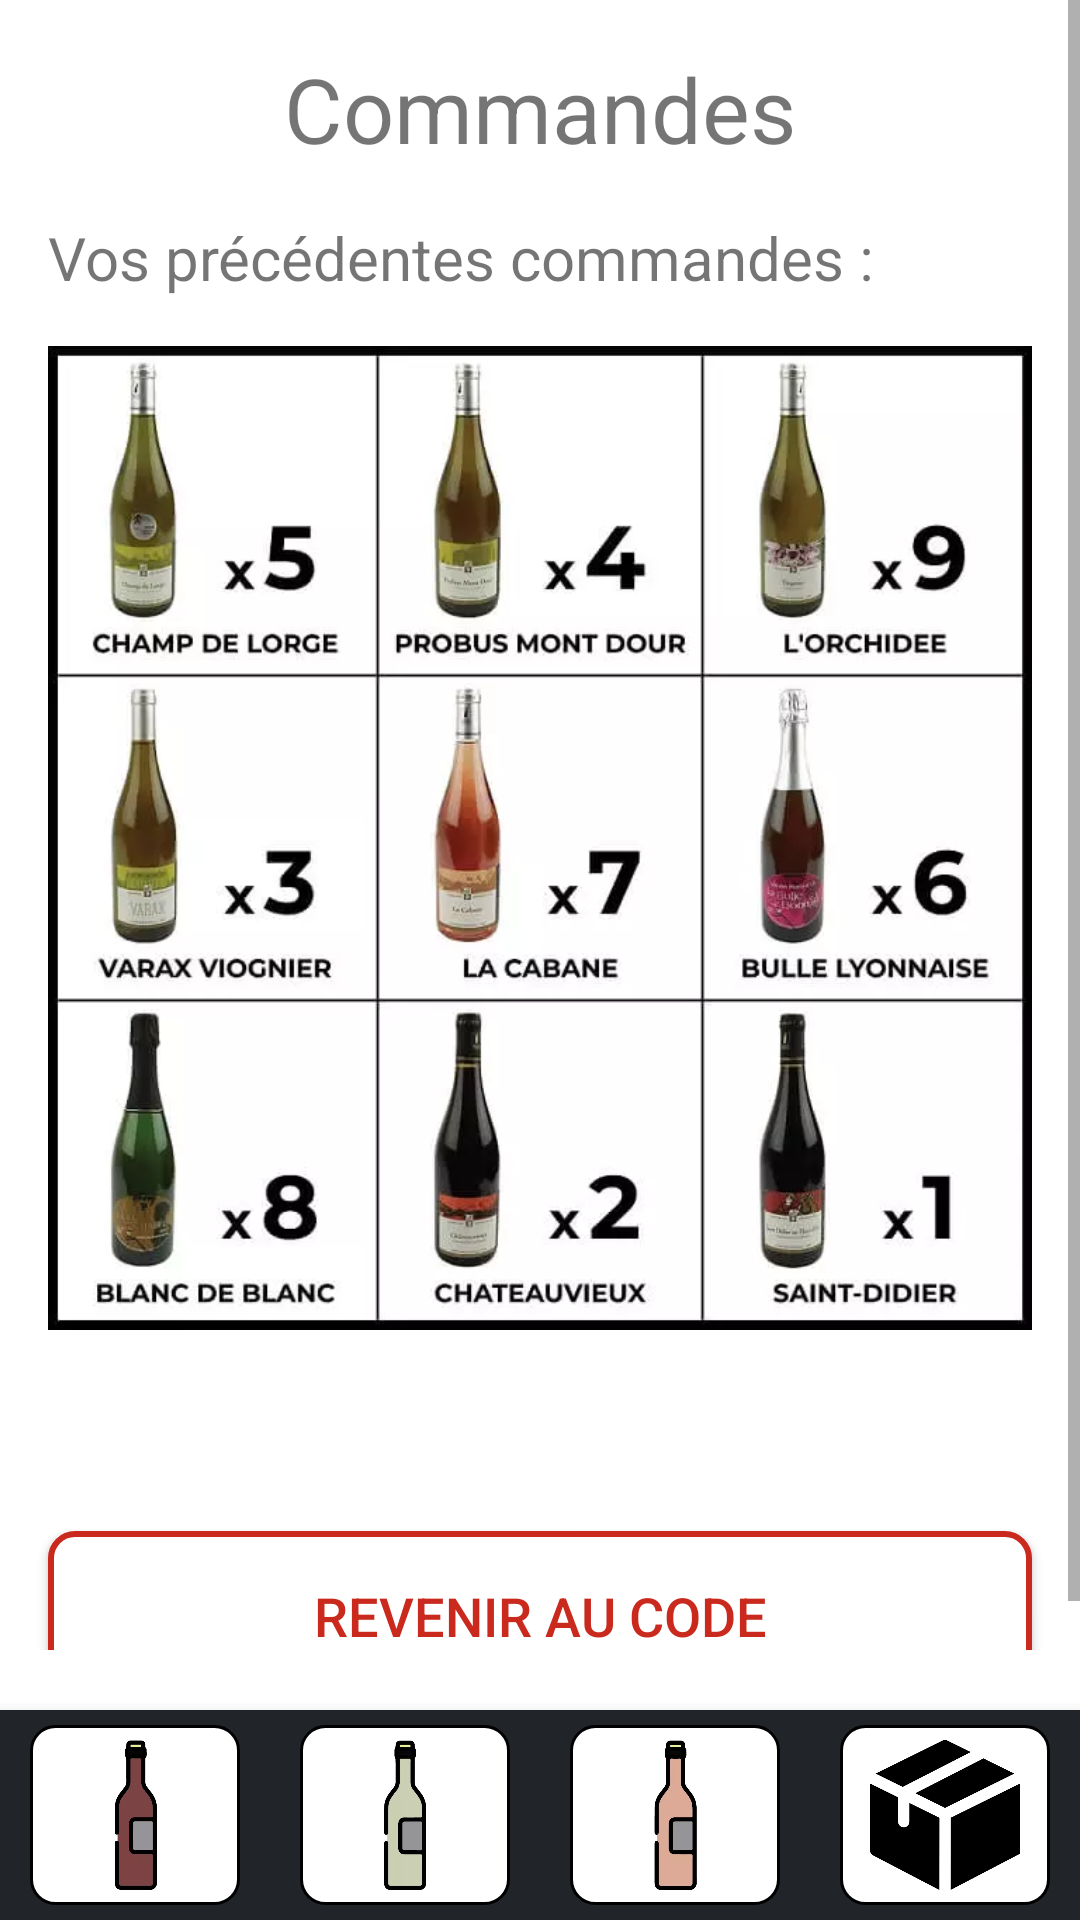

Point at icon controls on the screen. Image size 1080px×1920px, points as [x,y].
achat: [945,1815]
blanc: [405,1815]
rose: [675,1815]
rouge: [135,1815]
